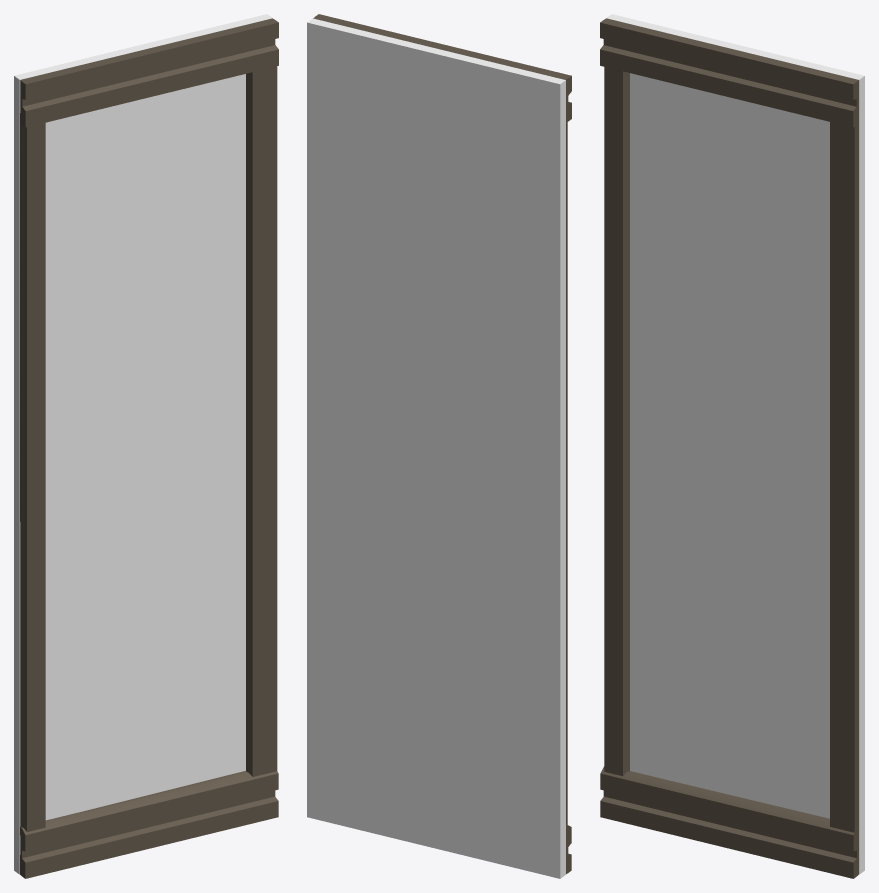
The model's file is WALL_03_1.glb.
3 views of the same model, side by side, from view 1: azimuth 30°, elevation 25°; view 2: azimuth 150°, elevation 25°; view 3: azimuth 330°, elevation 25° (orthographic).
Parts seen in each view (by area): view 1: WALL_03_1; view 2: WALL_03_1; view 3: WALL_03_1.
Boxes of the visible parts, <box> form: WALL_03_1: <box>14,14,278,878</box>; WALL_03_1: <box>307,14,571,878</box>; WALL_03_1: <box>600,14,864,878</box>.
Bounding box in the file's own units: 1 × 3 × 0.08.
1 material, 1 textured.
